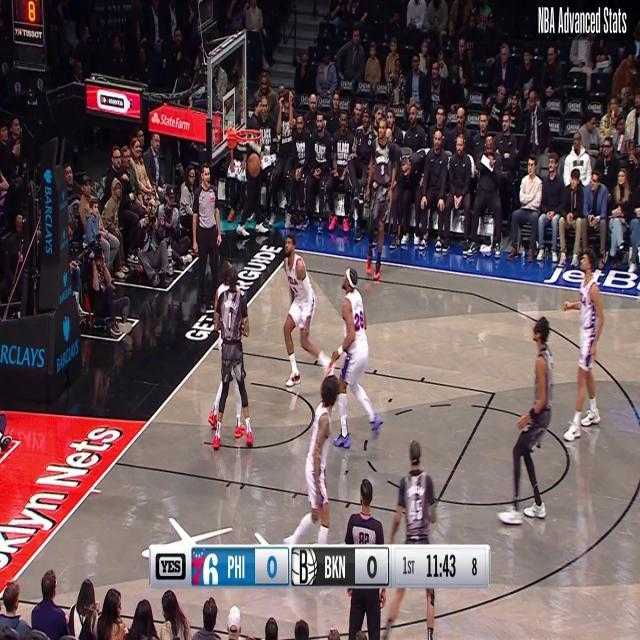ball: (246, 150, 262, 180)
player: (382, 424, 448, 640), (281, 362, 345, 562), (499, 310, 553, 535), (324, 264, 384, 452), (561, 246, 605, 444), (280, 231, 334, 390), (210, 262, 254, 452), (355, 114, 396, 288), (210, 254, 246, 443)
